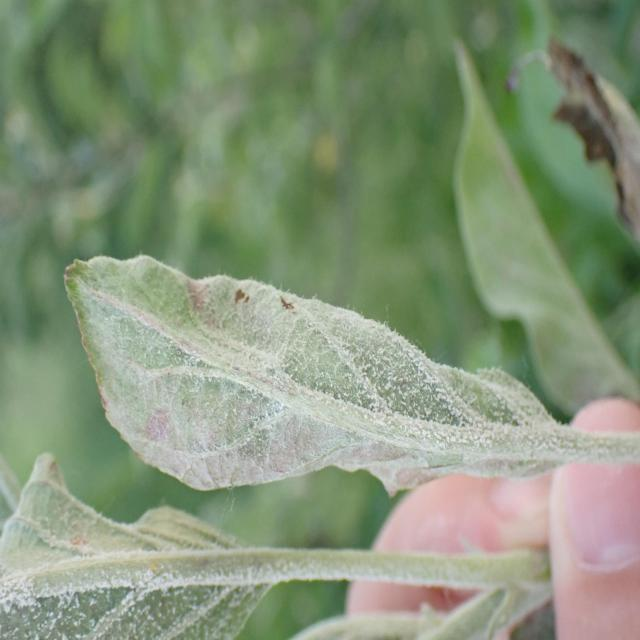Powdery_mildew: (66, 242, 563, 496), (0, 458, 316, 640), (279, 593, 533, 640)
